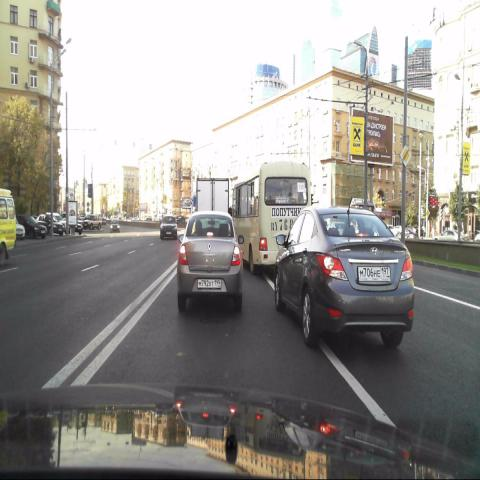2_2: (398, 143, 412, 166)
